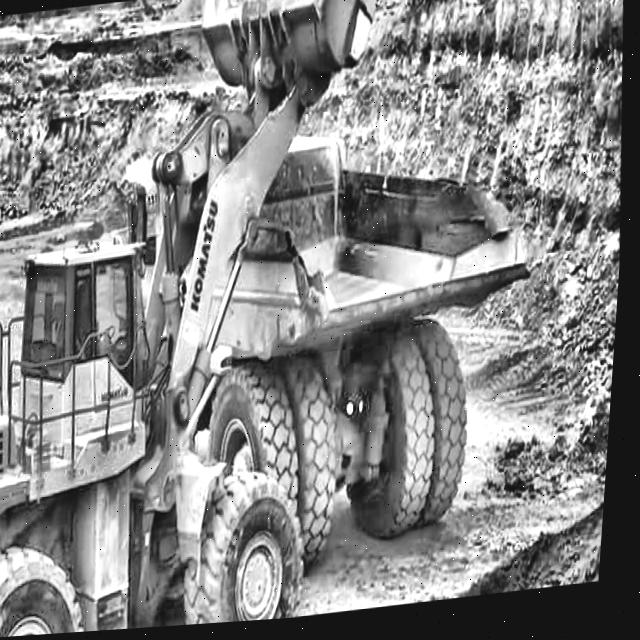buldozerpayloadergrader: (0, 0, 430, 640)
dump_truck: (110, 111, 558, 608)
